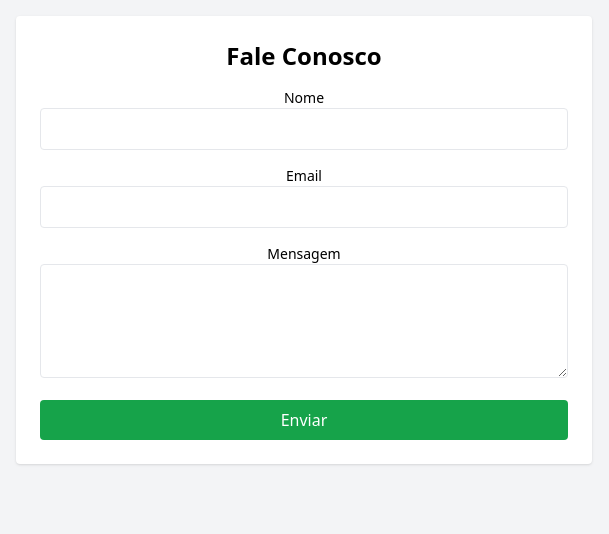
Test: Contato › deve preencher e enviar o formulário com sucesso
Check: the field labelled "Email" is shown, box [40, 186, 568, 228]
Check: the text box labelled "Mensagem" is shown, box [40, 264, 568, 378]
Type "João" into the field labelled "Nome" at point(304, 129), box [40, 108, 568, 150]
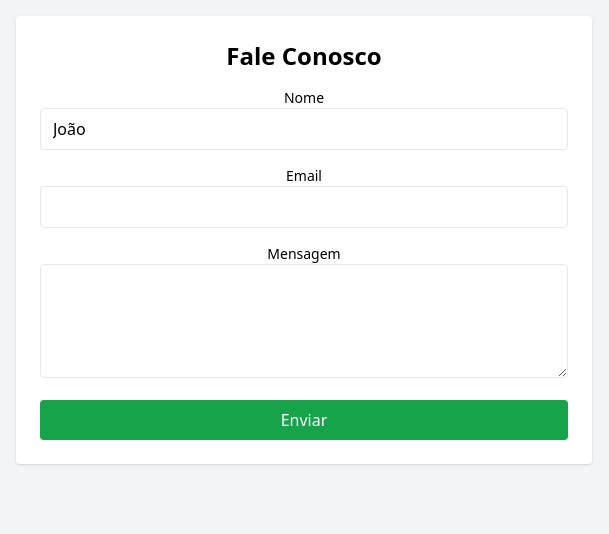
Type "joao@email.com" into the field labelled "Email" at point(304, 207), box [40, 186, 568, 228]
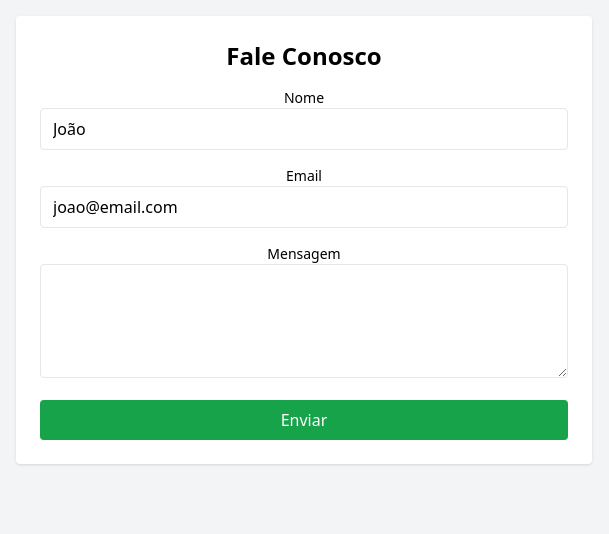
Type "Olá, gostaria de saber mais!" into the text box labelled "Mensagem" at point(304, 321), box [40, 264, 568, 378]
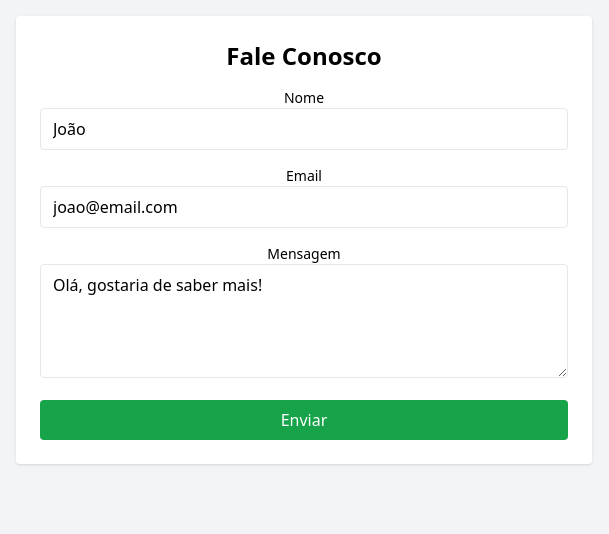
Click the button "Enviar" at point(304, 420), box [40, 400, 568, 440]
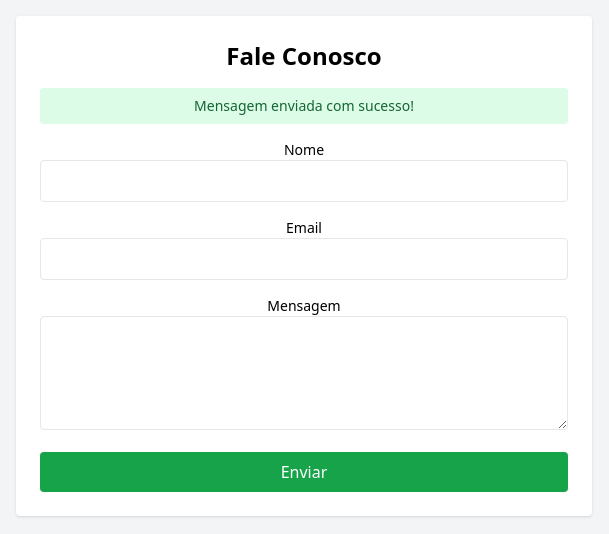
Check: the text "Mensagem enviada com sucesso!" is shown, box [40, 88, 568, 124]
